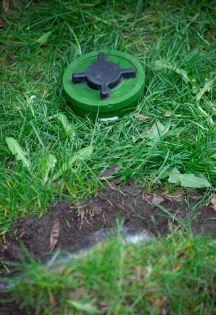pmn: (60, 47, 147, 123)
